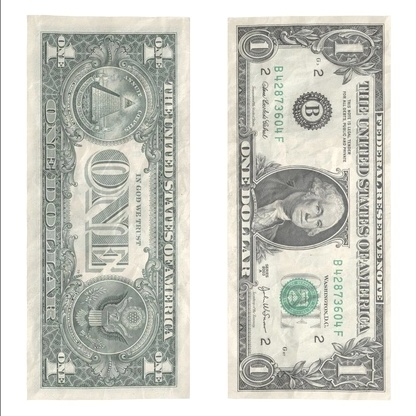one-back: (23, 10, 200, 403)
one-front: (224, 12, 393, 406)
